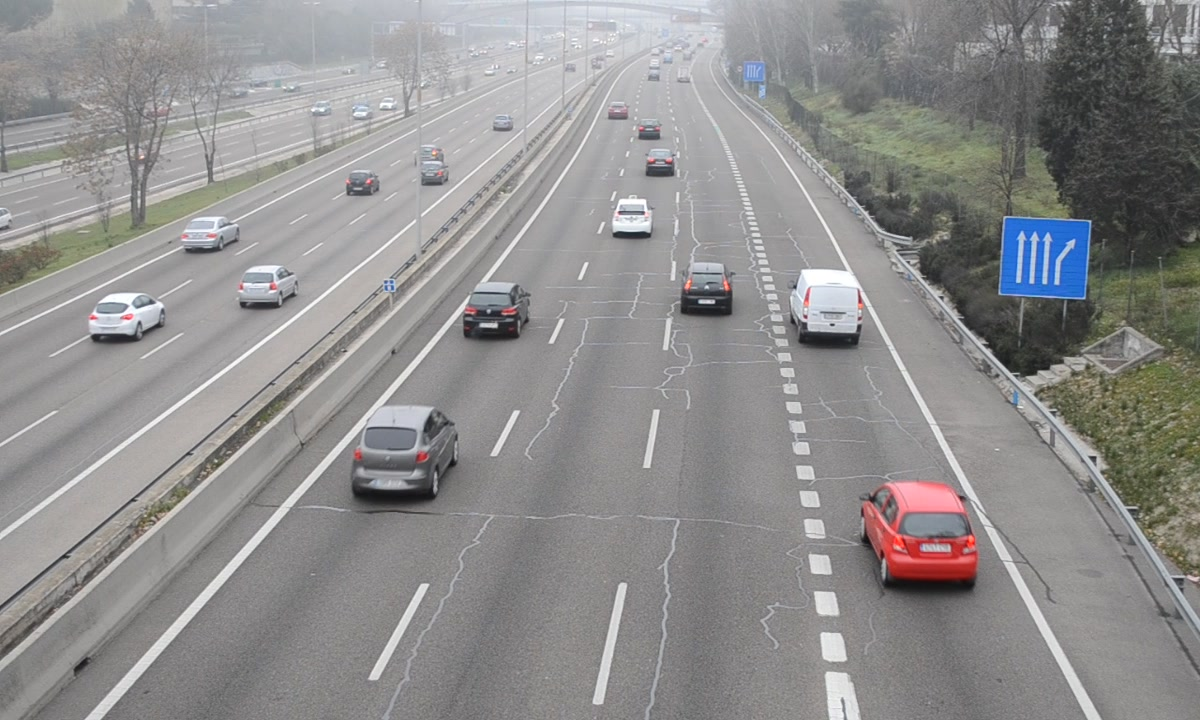car: (862, 481, 980, 584), (351, 407, 459, 493), (460, 281, 531, 337), (682, 262, 734, 315), (610, 197, 653, 233), (643, 147, 676, 177), (640, 117, 663, 140)
van: (791, 269, 863, 342)
